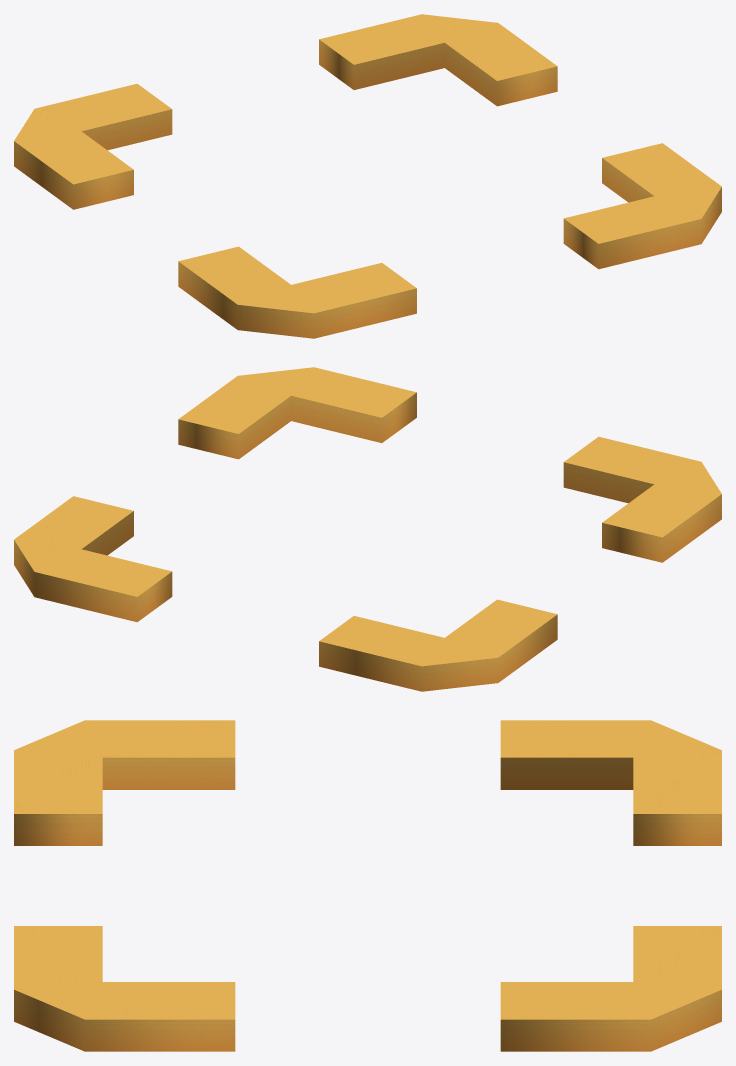
The model's file is tower-defense-kit--selection-a.glb.
3 views of the same model, one above another, from view 1: azimuth 30°, elevation 25°; view 2: azimuth 150°, elevation 25°; view 3: azimuth 270°, elevation 25° (orthographic). The views are drawn at different scales.
Parts seen in each view (by area): view 1: selection-a; view 2: selection-a; view 3: selection-a.
Part boxes in pixels (left/top/right/bottom): selection-a: left=14, top=14, right=721, bottom=338; selection-a: left=14, top=367, right=721, bottom=691; selection-a: left=14, top=720, right=721, bottom=1051.
Bounding box in the file's own units: 1 × 0.05 × 1.
Materials: 1 (1 with a texture image).
